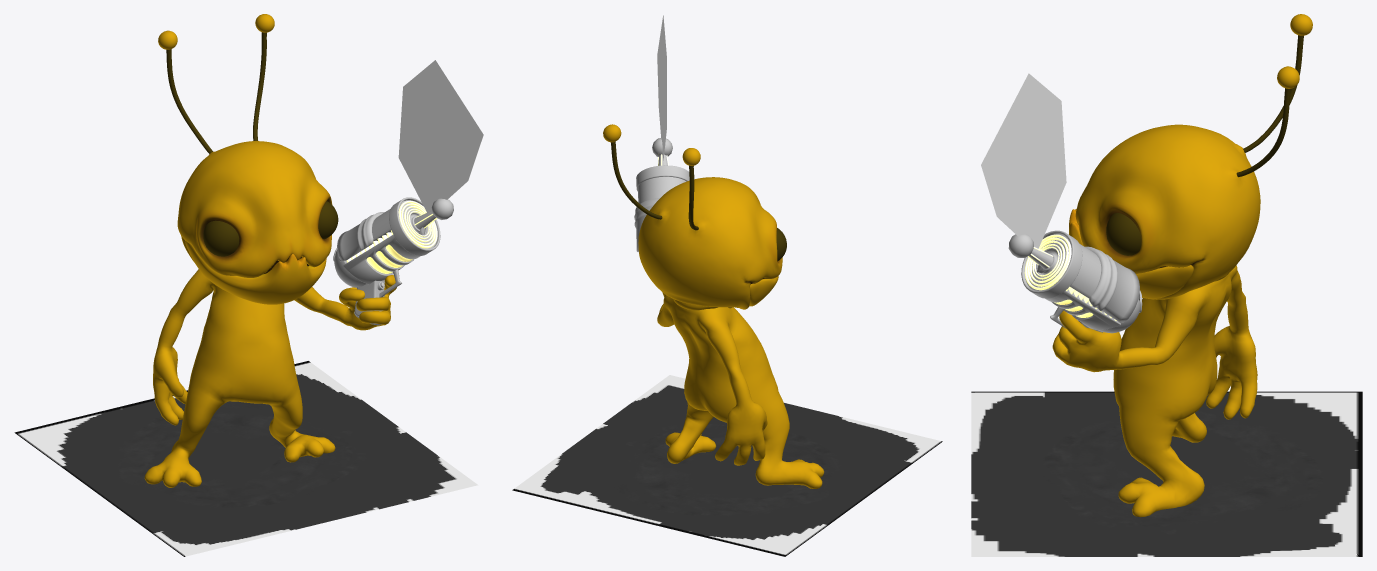
File: AlianHom_sketch.fbx
The picture shows the model from 3 angles, left to right: view 1: azimuth 30°, elevation 25°; view 2: azimuth 150°, elevation 25°; view 3: azimuth 270°, elevation 25°; orthographic projection. The views are drawn at different scales.
Visible parts, largest first — view 1: Untitled-1; view 2: Untitled-1; view 3: Untitled-1.
Part boxes in pixels (<box>): Untitled-1: <box>14,14,483,556</box>; Untitled-1: <box>512,15,942,556</box>; Untitled-1: <box>971,14,1362,556</box>.
Bounding box in the file's own units: 1561 × 2050 × 1513.
